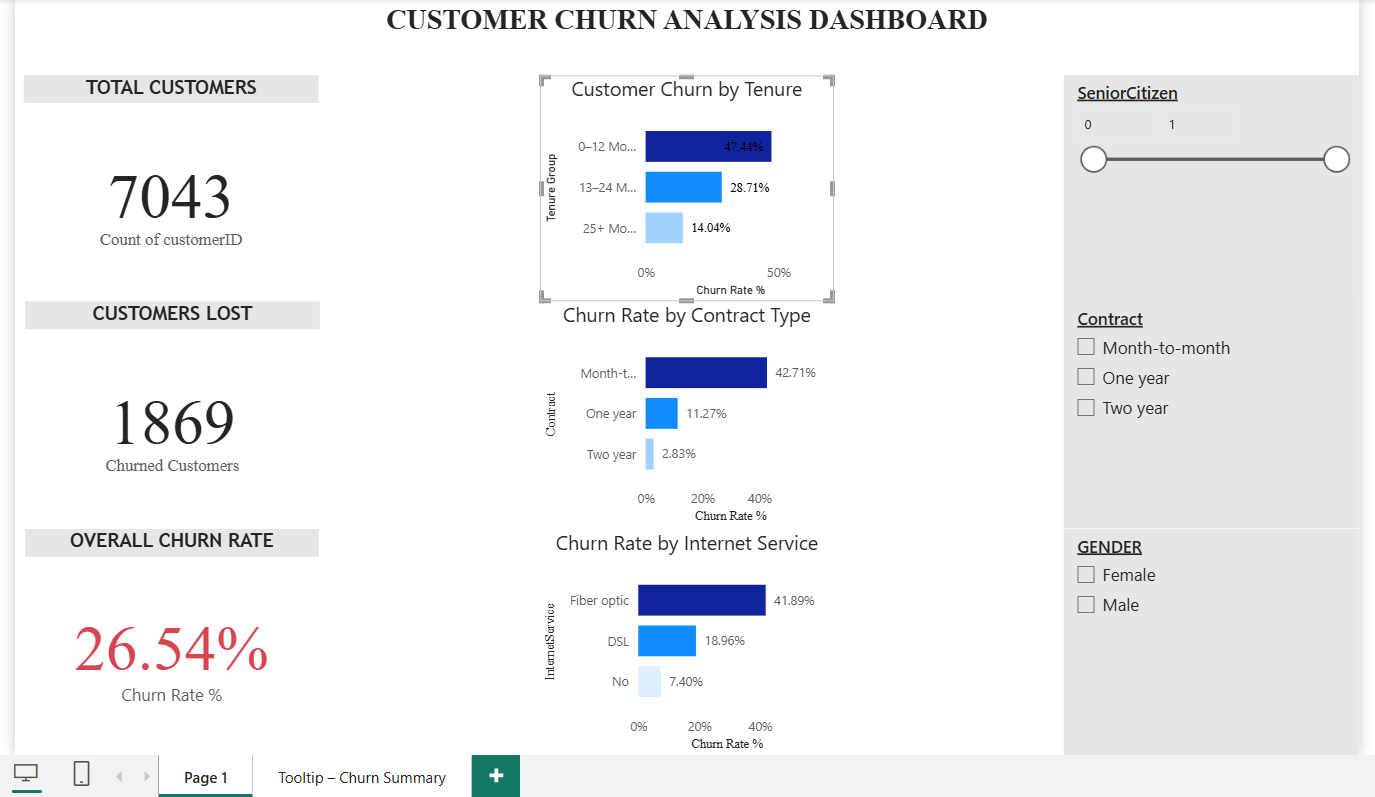

The dashboard page shown, as its layout file describes it:
{"tool":"powerbi","page":{"name":"Page 1","canvas":[1280,720],"ordinal":0},"visuals":[{"type":"card","title":"TOTAL CUSTOMERS","fields":{"Values":["CountNonNull(customer_churn.customerID)"]},"box":[8.4,72,281,216.1],"z":0},{"type":"card","title":"CUSTOMERS LOST","fields":{"Values":["CountNonNull(customer_churn.customerID)"]},"box":[9.6,288.2,281,216.1],"z":1000},{"type":"card","title":"OVERALL CHURN RATE","fields":{"Values":["customer_churn.Churn Rate %"]},"box":[9.6,504.3,279.8,216.1],"z":2000},{"type":"clusteredBarChart","title":"Churn Rate by Contract Type","fields":{"Y":["customer_churn.Churn Rate %"],"Category":["customer_churn.Contract"]},"box":[499.5,288.2,279.8,216.1],"z":3000},{"type":"clusteredBarChart","title":"Churn Rate by Internet Service","fields":{"Category":["customer_churn.InternetService"],"Y":["customer_churn.Churn Rate %"]},"box":[499.5,504.3,279.8,216.1],"z":4000},{"type":"slicer","fields":{"Values":["customer_churn.gender"]},"box":[999,504.3,281,216.1],"z":5000},{"type":"slicer","fields":{"Values":["customer_churn.SeniorCitizen"]},"box":[999,72,281,216.1],"z":6000},{"type":"slicer","fields":{"Values":["customer_churn.Contract"]},"box":[999,288.2,281,216.1],"z":7000},{"type":"clusteredBarChart","title":"Customer Churn by Tenure","fields":{"Category":["customer_churn.Tenure Group"],"Y":["customer_churn.Churn Rate %"]},"box":[499.5,72,279.8,216.1],"z":8000},{"type":"textbox","box":[0,0,1280,72],"z":9000}]}

Visuals, with their boxes on the page's 1280x720 design canvas (x1, y1, x2, y2). These are canvas units, not pixel positions in the 1375x797 screenshot, which may show the page scaled, cropped or inside an application window:
"TOTAL CUSTOMERS" card: region(8, 72, 289, 288)
"CUSTOMERS LOST" card: region(10, 288, 291, 504)
"OVERALL CHURN RATE" card: region(10, 504, 289, 720)
"Churn Rate by Contract Type" clusteredBarChart: region(500, 288, 779, 504)
"Churn Rate by Internet Service" clusteredBarChart: region(500, 504, 779, 720)
slicer - customer_churn.gender: region(999, 504, 1280, 720)
slicer - customer_churn.SeniorCitizen: region(999, 72, 1280, 288)
slicer - customer_churn.Contract: region(999, 288, 1280, 504)
"Customer Churn by Tenure" clusteredBarChart: region(500, 72, 779, 288)
textbox: region(0, 0, 1280, 72)
